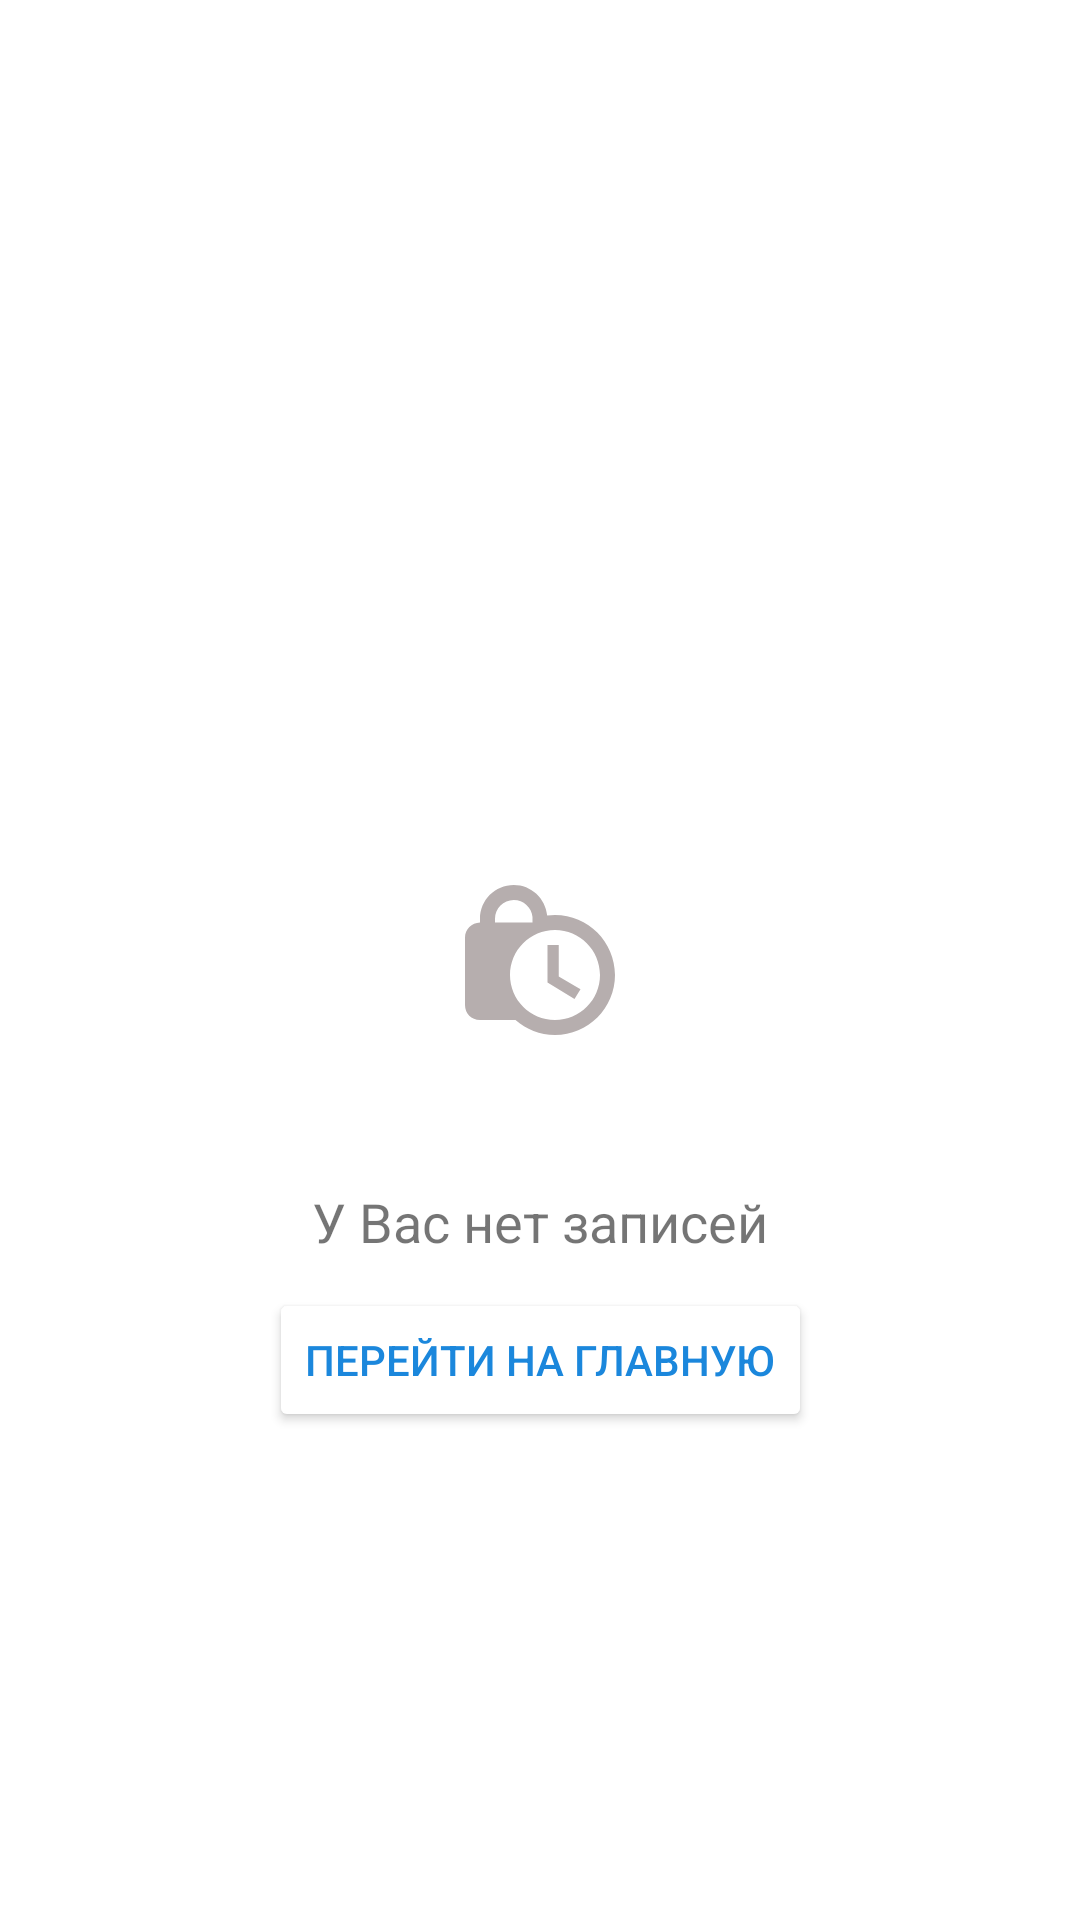

Icons on this 1080 x 1920 Android screen, each with its box as (x1=x1, y1=y1, x2=x2, y2=y2):
lock clock: (x1=465, y1=885, x2=615, y2=1035)
